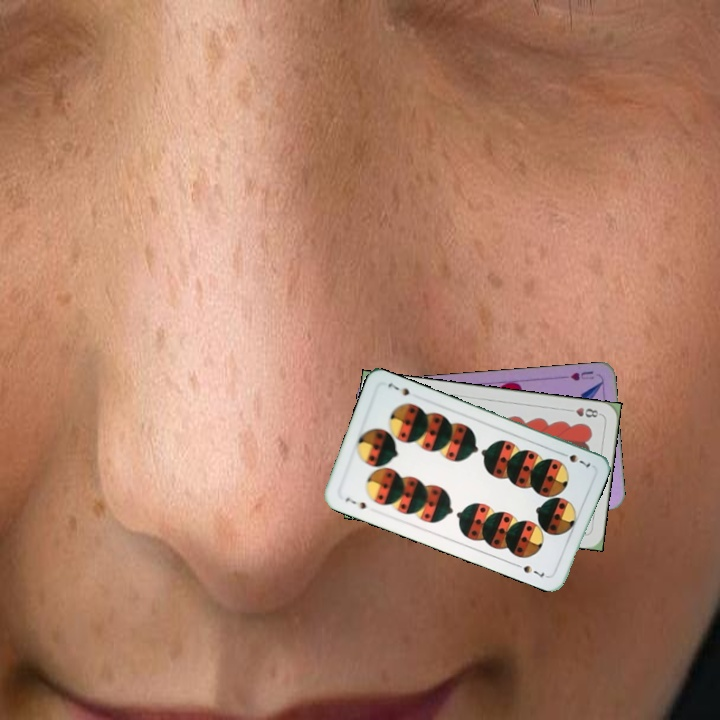H8: (563, 403, 603, 420)
HU: (567, 367, 596, 383)
S7: (556, 448, 593, 470), (341, 493, 369, 512)
